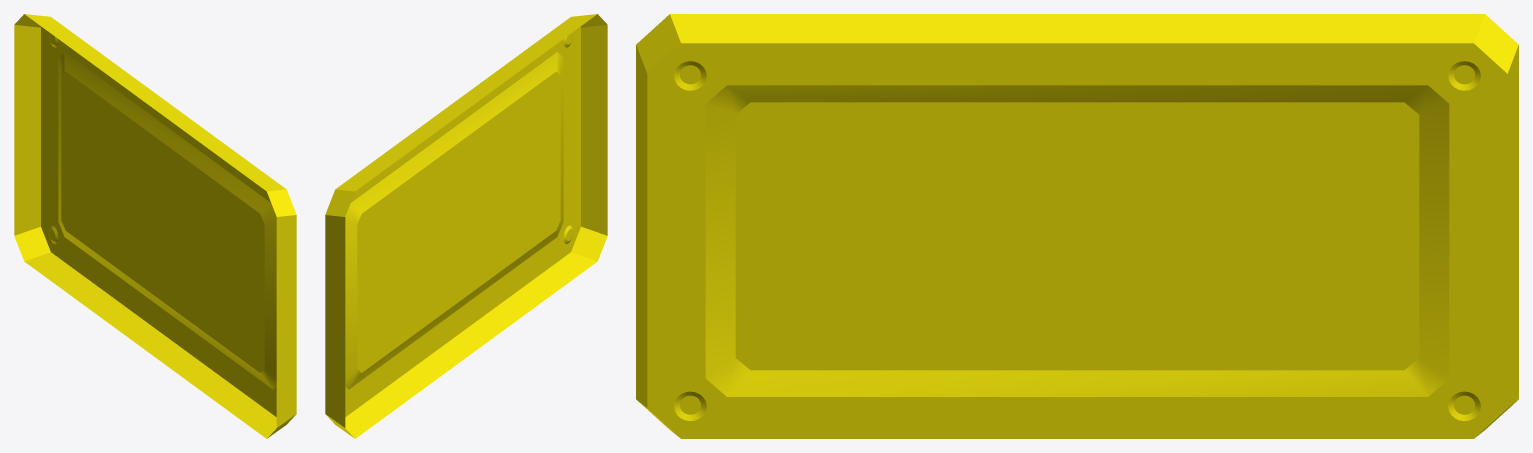
Rendered from Building_Baffle_Metal_01a_snaps016.fbx.
3 renders of one model, left to right at view 1: azimuth 30°, elevation 25°; view 2: azimuth 150°, elevation 25°; view 3: azimuth 270°, elevation 25°, orthographic. The views are drawn at different scales.
Parts seen in each view (by area): view 1: Building_Baffle_Metal_01a_snaps016_LOD0; view 2: Building_Baffle_Metal_01a_snaps016_LOD0; view 3: Building_Baffle_Metal_01a_snaps016_LOD0.
Part boxes in pixels (box(x1,y1,x2,y2)): Building_Baffle_Metal_01a_snaps016_LOD0: box(14, 14, 296, 438); Building_Baffle_Metal_01a_snaps016_LOD0: box(325, 14, 607, 438); Building_Baffle_Metal_01a_snaps016_LOD0: box(636, 14, 1518, 438).
Size of what is drawn, in the model's own units: 0.0805 by 0.8155 by 1.57.
